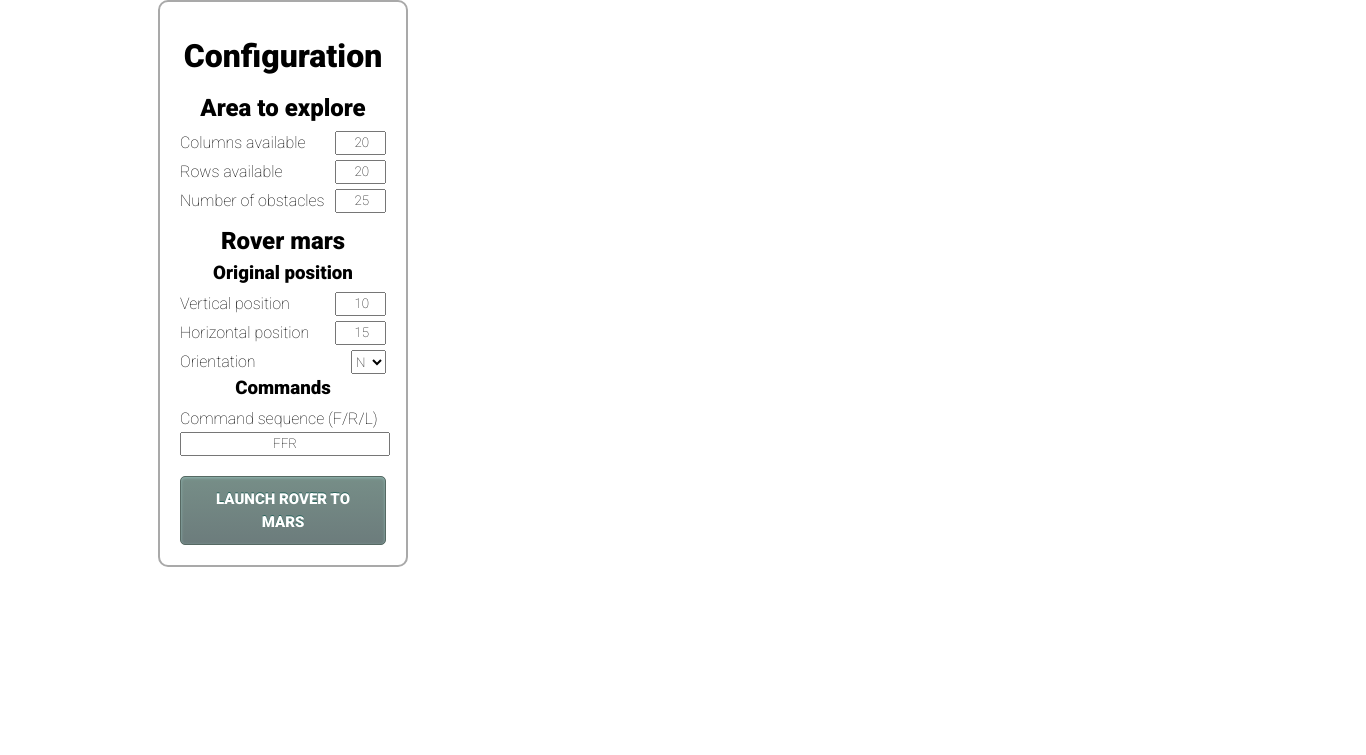
Given a RoverExpeditionComponent › When is invoked and the button is press › Then should render a summary table with a cell with the origin coordinates
The image size is (1366, 755).
Click the button "LAUNCH ROVER TO MARS" at (283,511), box [180, 476, 386, 545]
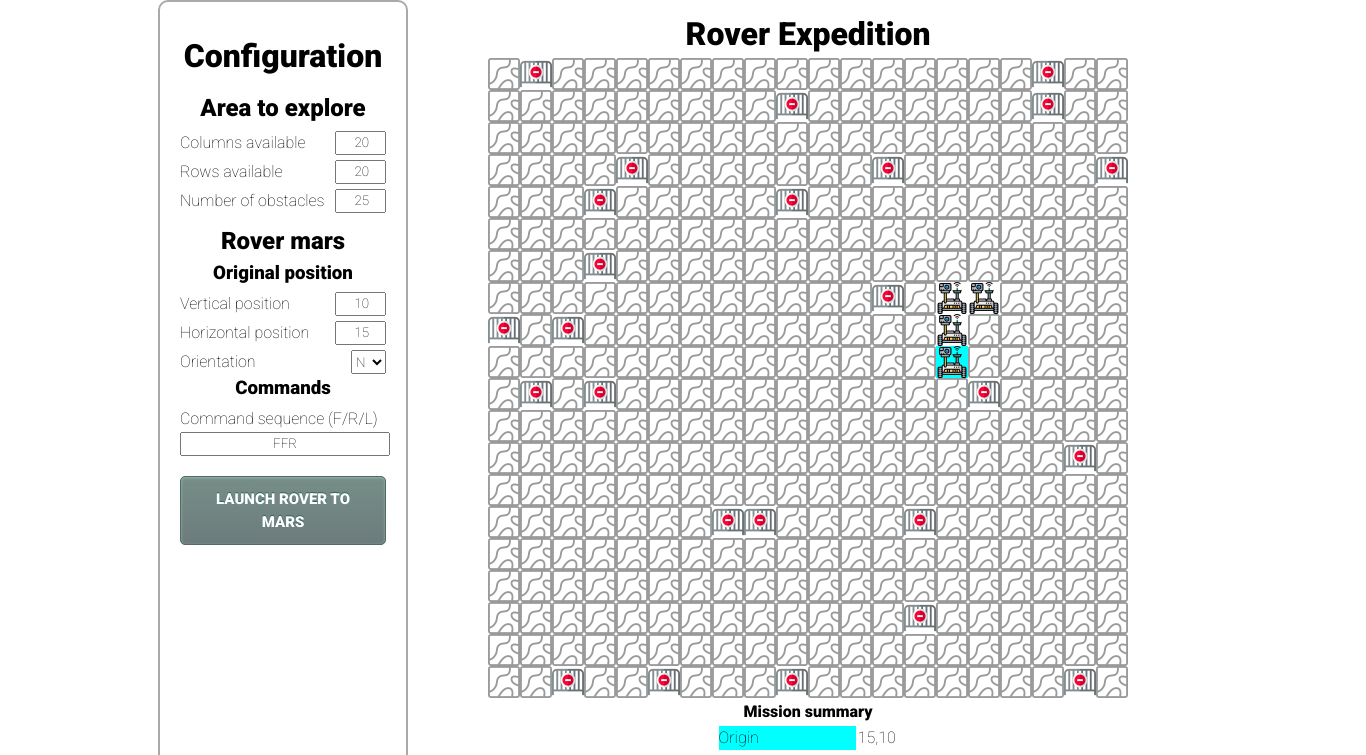
Result: the cell with class "terrain-origin-coordinates" reads "15,10" at [858, 726, 897, 750]
